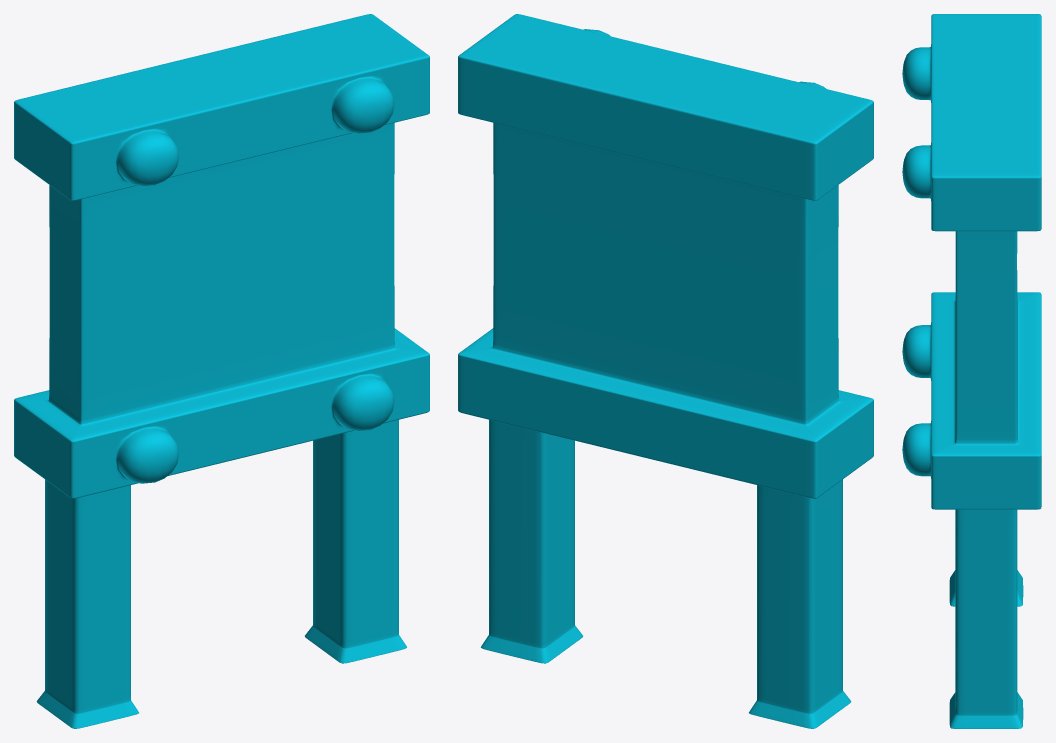
Rendered from Wood Board 2.FBX.
3 views of the same model, side by side, from view 1: azimuth 30°, elevation 25°; view 2: azimuth 150°, elevation 25°; view 3: azimuth 270°, elevation 25° (orthographic). The views are drawn at different scales.
Parts seen in each view (by area): view 1: Wood Board 2; view 2: Wood Board 2; view 3: Wood Board 2.
Part boxes in pixels (bbox=[...]): Wood Board 2: bbox=[14, 14, 429, 728]; Wood Board 2: bbox=[458, 14, 873, 728]; Wood Board 2: bbox=[902, 14, 1041, 728].
Bounding box in the file's own units: 63.19 × 100 × 22.7.
